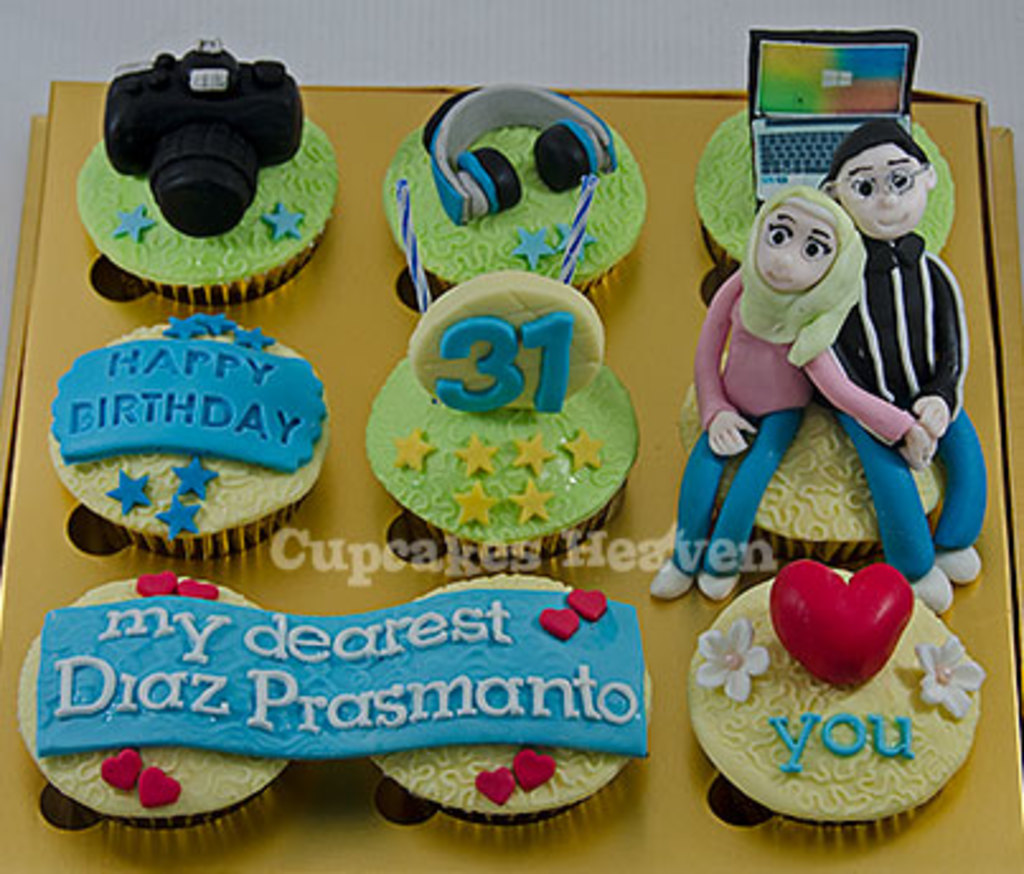cake: (684, 546, 991, 828)
